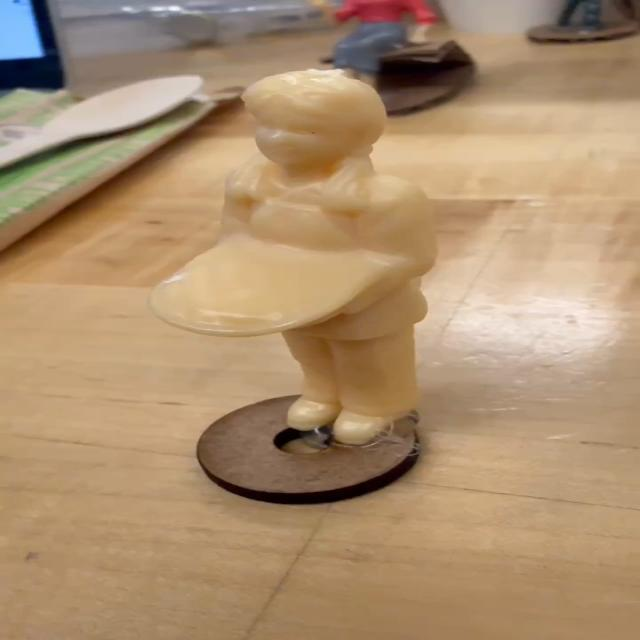Unauthorized: (117, 58, 467, 450)
